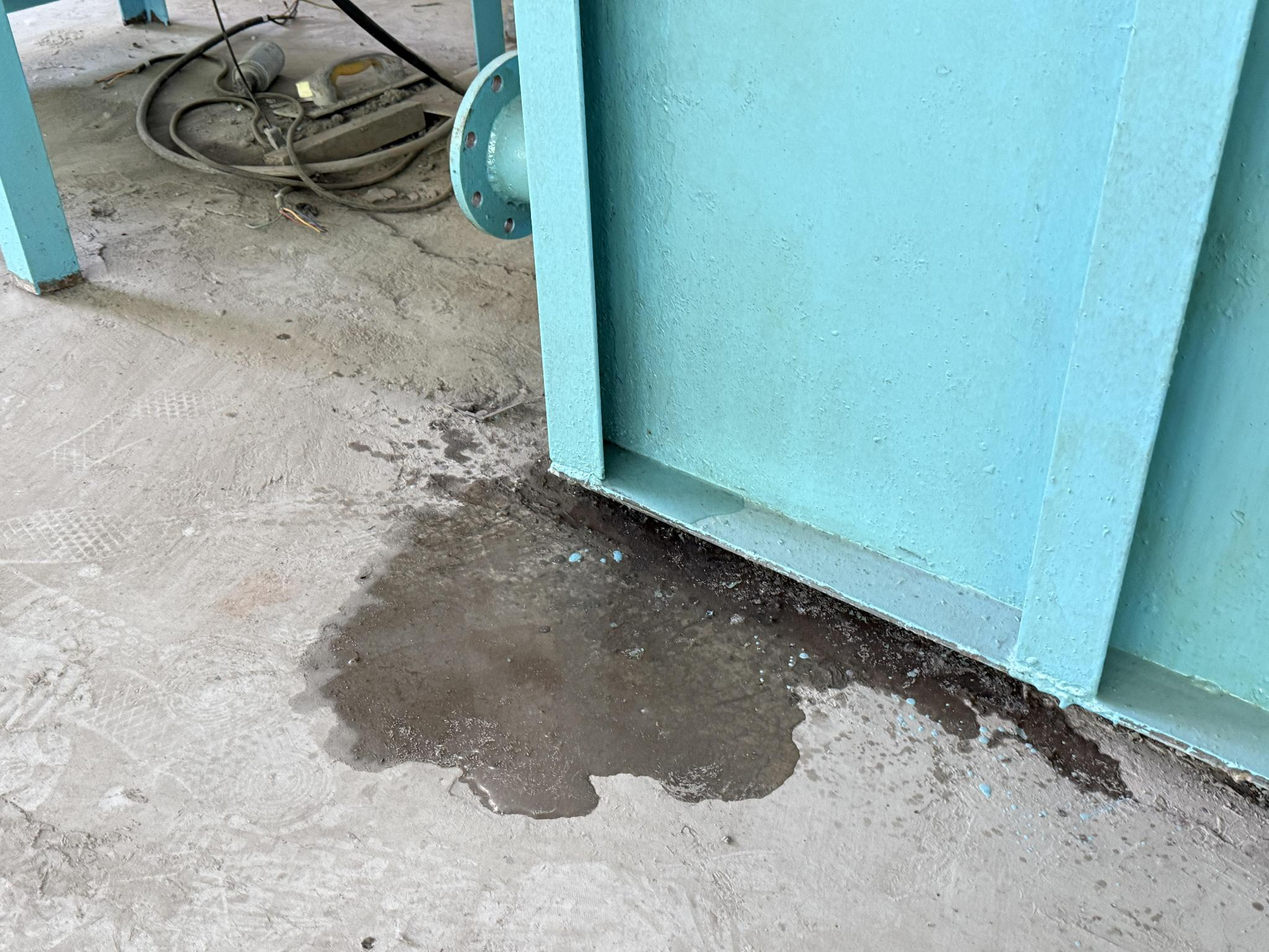water accumulation: (313, 460, 1127, 818)
